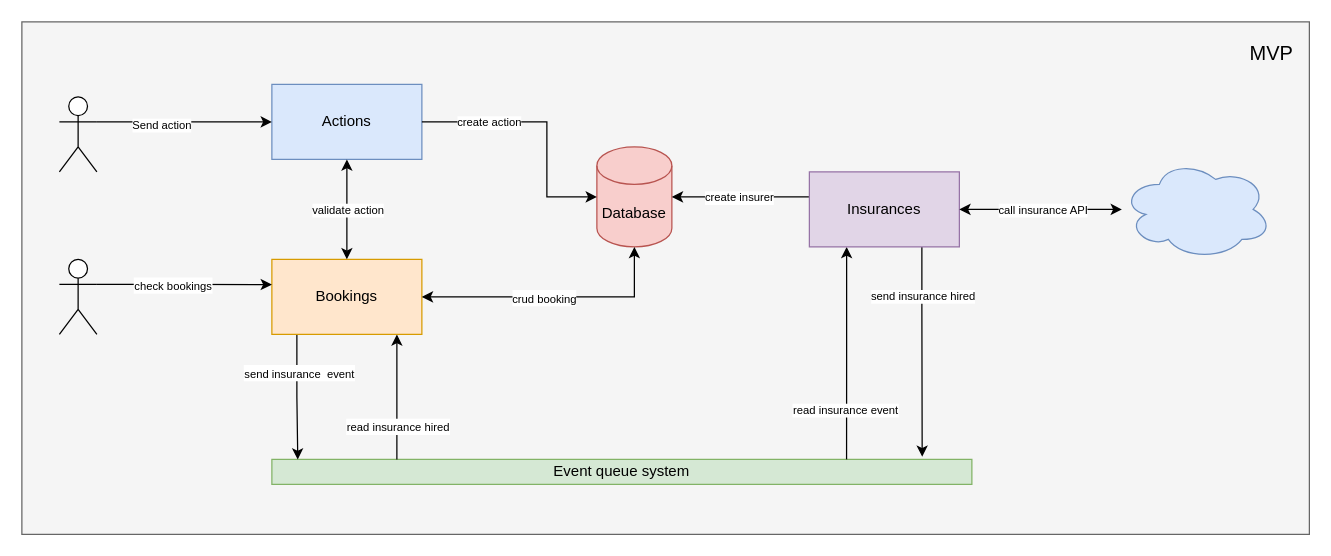
This 1331x556 diagram has some shape labels left out. The centre of each missing label's shape, as x and y in pixels:
Backoffice: (x=77, y=296)
Hotel: (x=77, y=134)
Insurance API: (x=1196, y=208)
